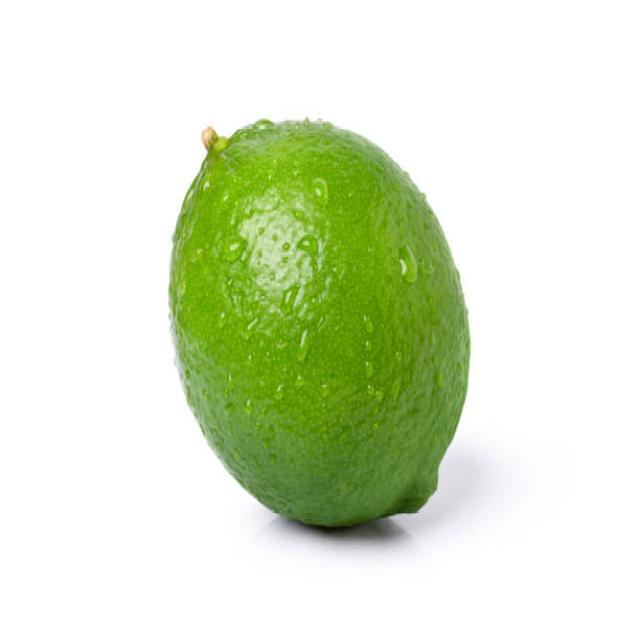Unripe: (167, 114, 472, 529)
